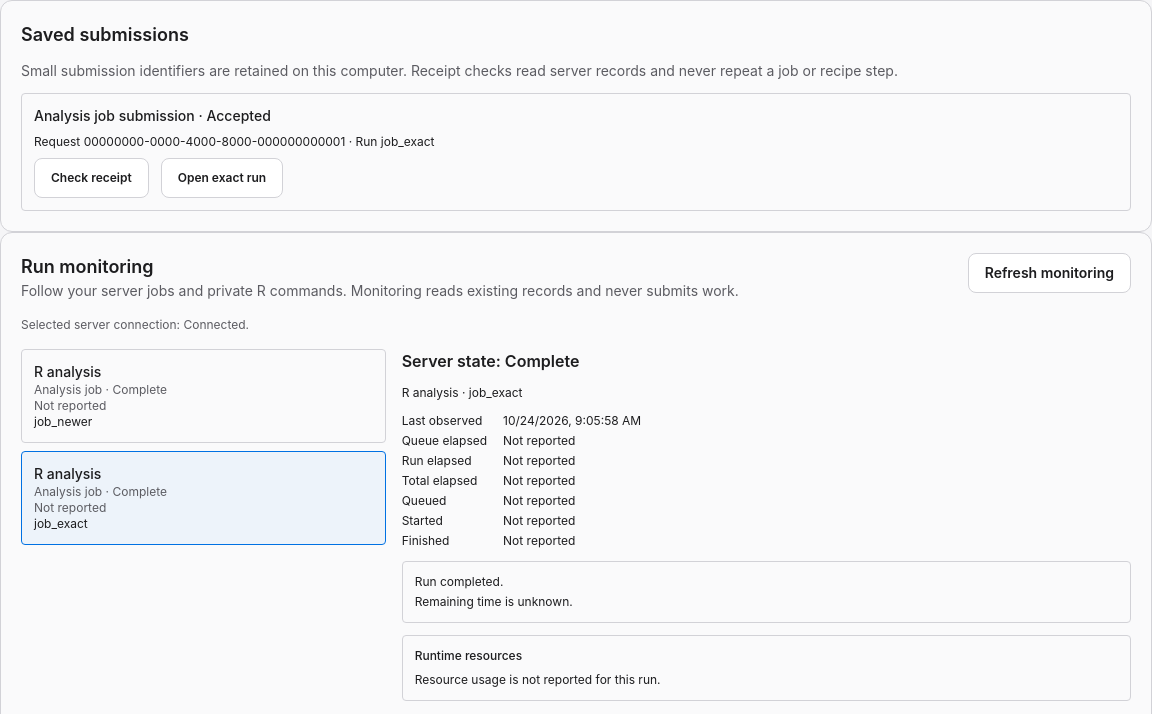
Test: clears retained private monitor state when a receipt confirms revoked project access
Expected: the element named "Selected run monitoring" shows "job_exact", [469, 385, 522, 400]
Click the button "Check receipt": (91, 178) [34, 158, 149, 198]
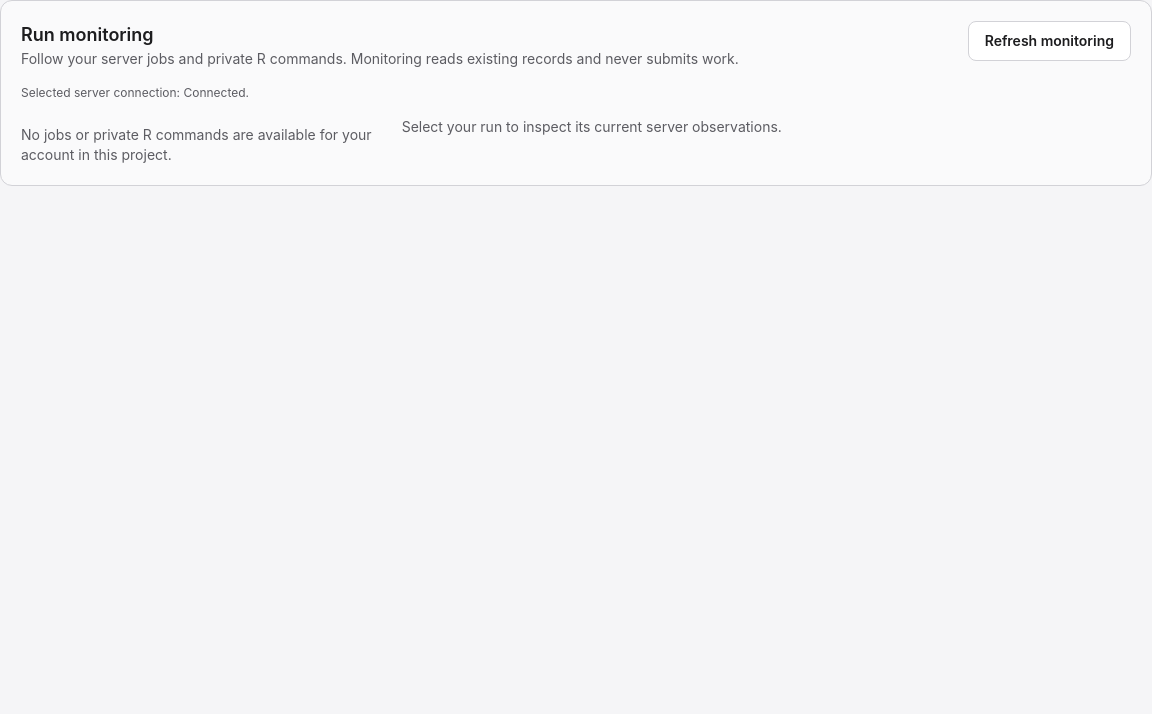
Expected: the heading "Saved submissions" is gone
Expected: the element named "Selected run monitoring" no longer shows "job_exact", [402, 118, 782, 135]
